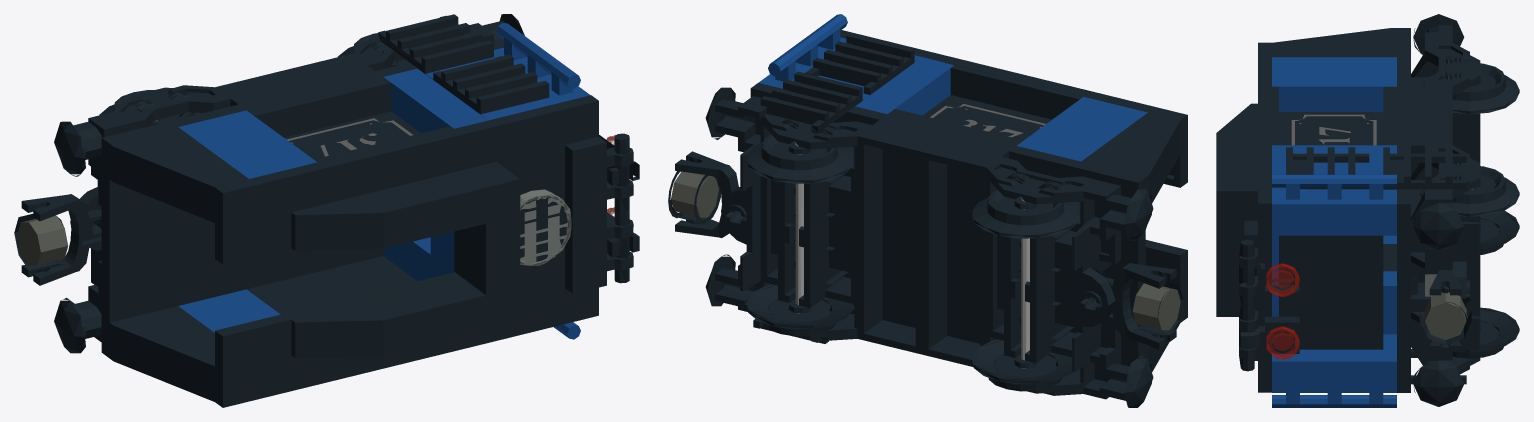
File: tender-basis-without-color-trim-elements.glb
3 views of the same model, side by side, from view 1: azimuth 30°, elevation 25°; view 2: azimuth 150°, elevation 25°; view 3: azimuth 270°, elevation 25° (orthographic). The views are drawn at different scales.
Size of the model in its own units: 121 by 59.2 by 69.8.
